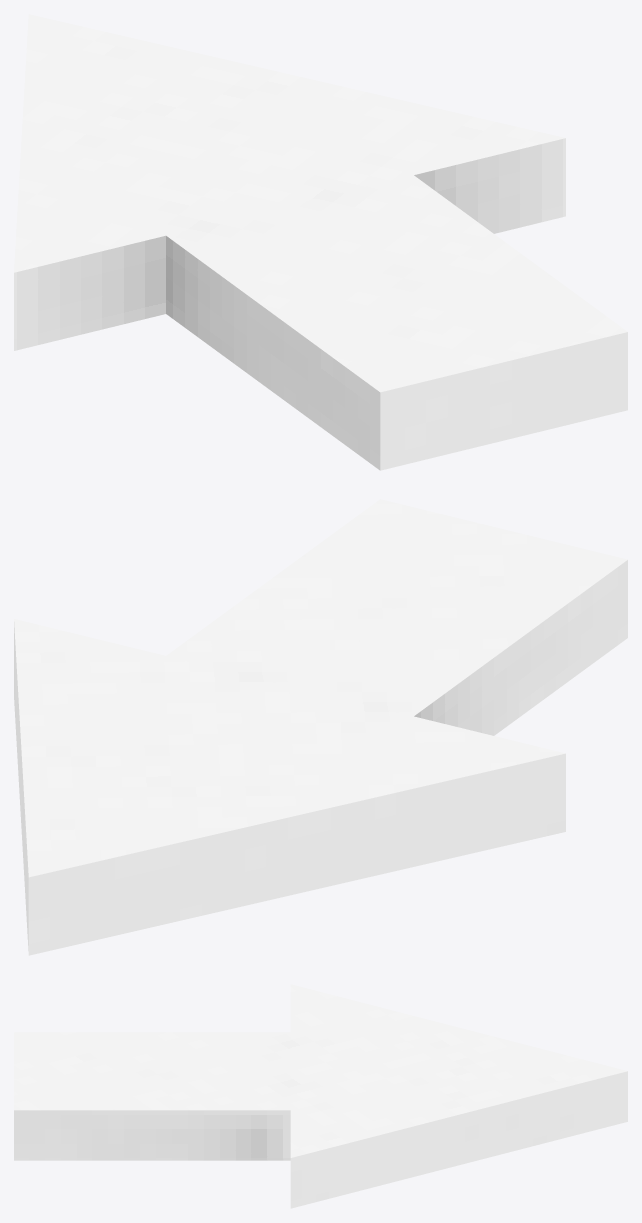
File: Arrow.glb
3 renders of one model, top to bottom at view 1: azimuth 30°, elevation 25°; view 2: azimuth 150°, elevation 25°; view 3: azimuth 270°, elevation 25°, orthographic. The views are drawn at different scales.
Parts seen in each view (by area): view 1: Arrow; view 2: Arrow; view 3: Arrow.
Boxes of the visible parts, x1,y1,x2,y2 form: Arrow: (14, 14, 627, 470); Arrow: (14, 499, 627, 955); Arrow: (14, 984, 627, 1208).
Size of the model in its own units: 0.099 by 0.0134 by 0.1478.
1 material, 1 textured.
